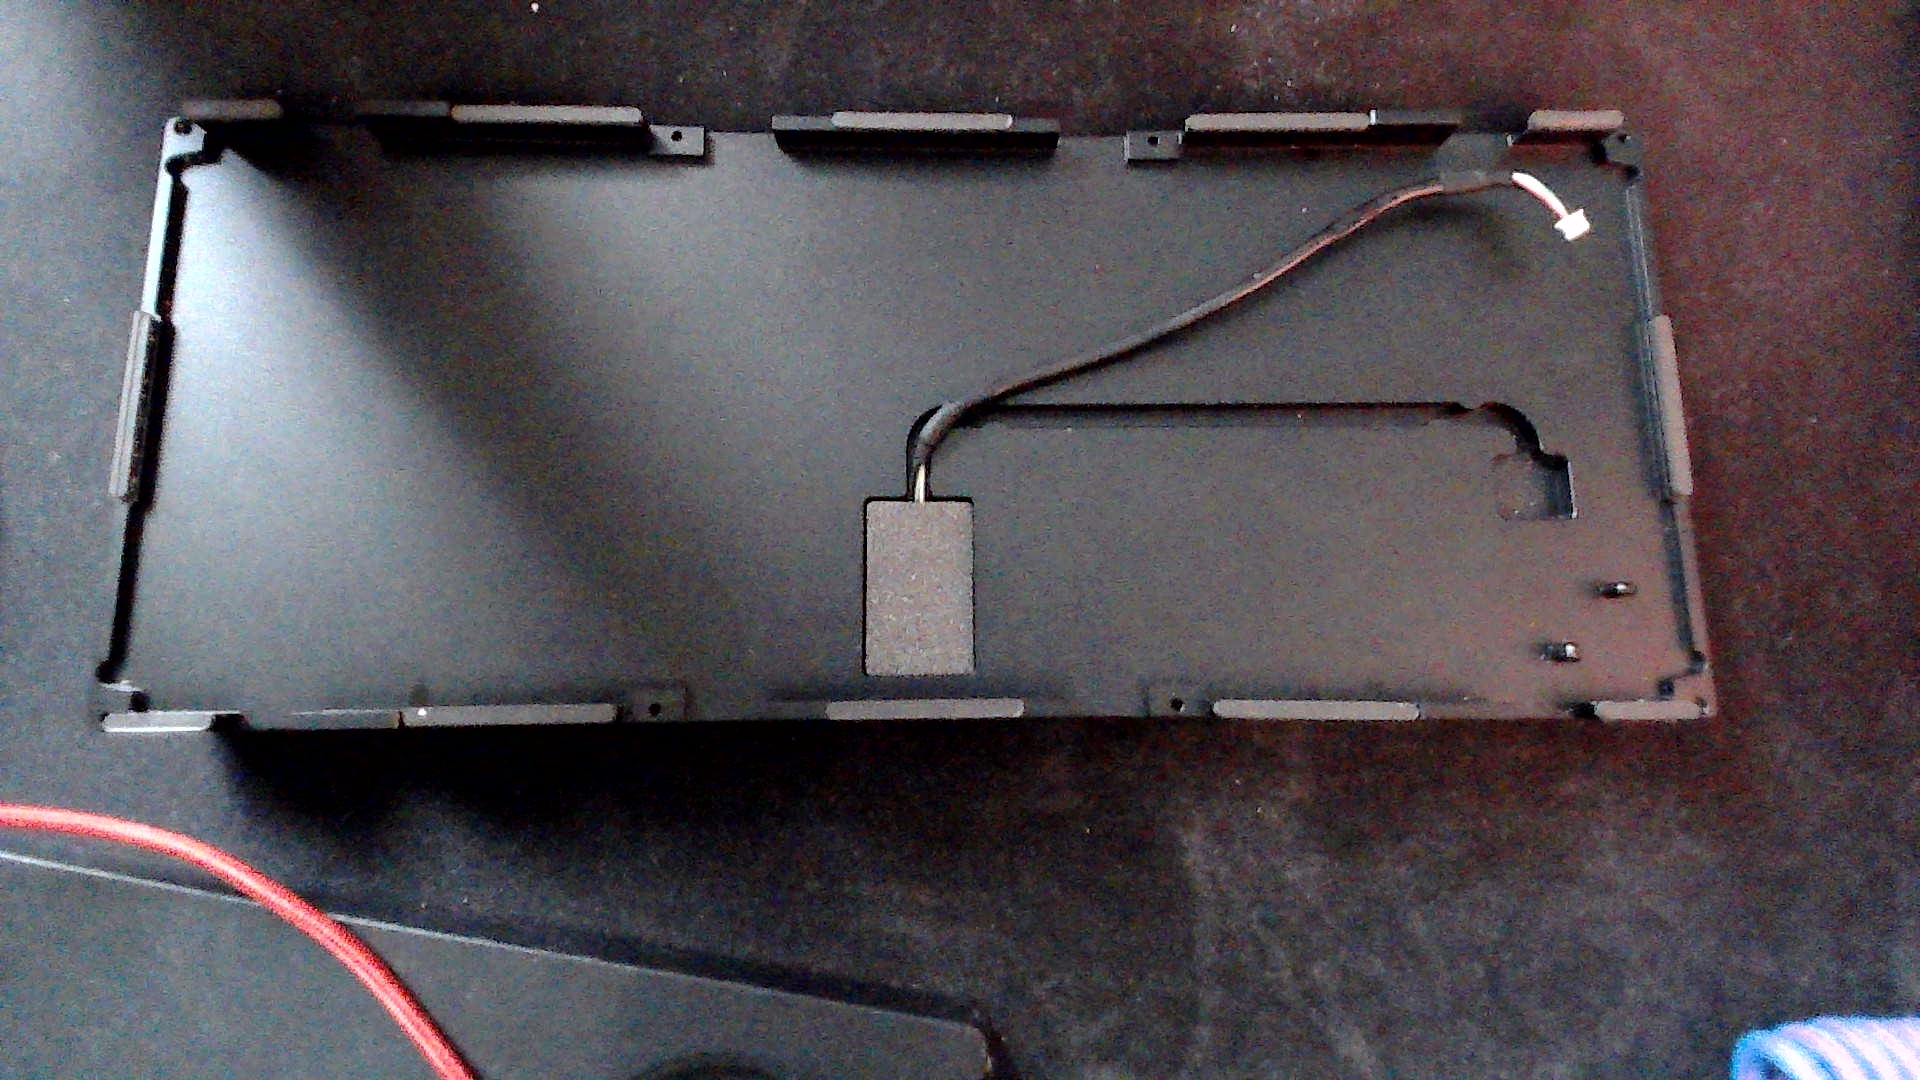case: (74, 69, 1735, 770)
